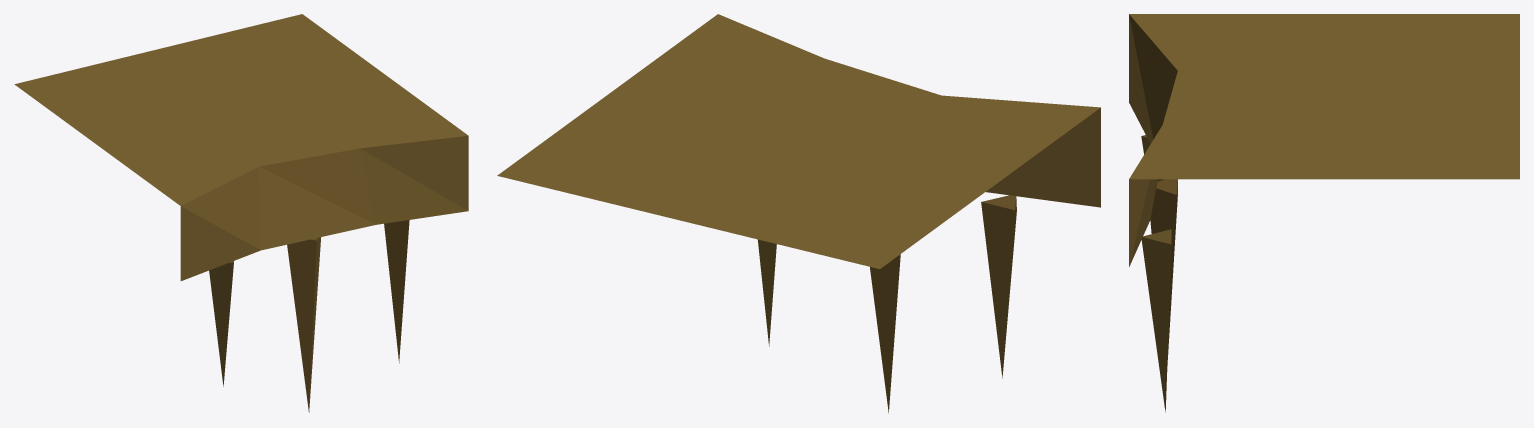
The model's file is obj_bridge_threeway_0.obj.
The picture shows the model from 3 angles, left to right: view 1: azimuth 30°, elevation 25°; view 2: azimuth 150°, elevation 25°; view 3: azimuth 270°, elevation 25°; orthographic projection. The views are drawn at different scales.
Size of the model in its own units: 1 by 0.8438 by 1.
